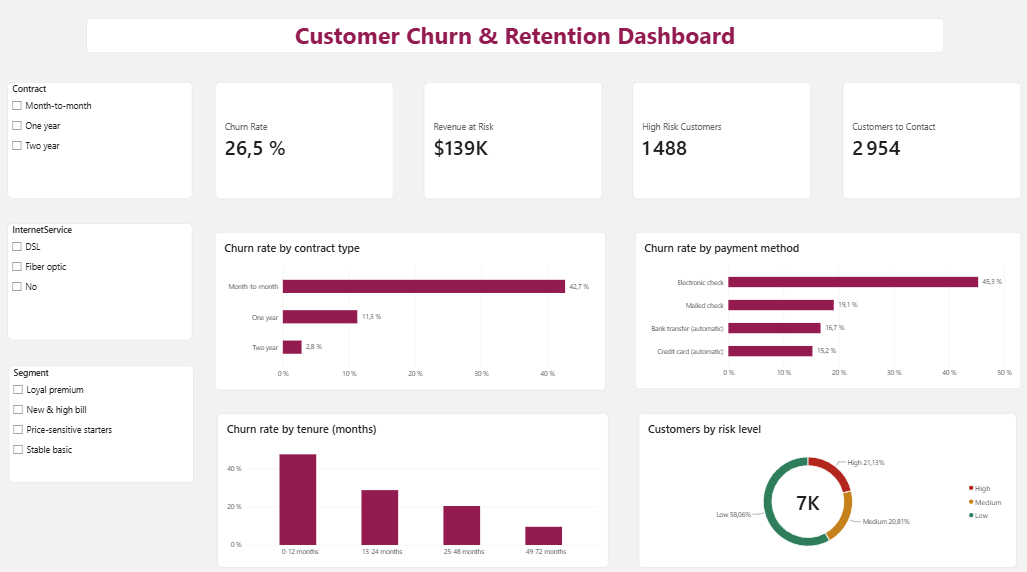

What the dashboard file says about the page in this screenshot:
{"tool":"powerbi","page":{"name":"Executive overview","canvas":[1920,1080],"ordinal":0},"visuals":[{"type":"textbox","box":[168.7,40,1578.5,64.4],"z":0},{"type":"cardVisual","fields":{"Data":["_Measures.Churn Rate"]},"box":[404.1,155.4,329.3,216.1],"z":1000},{"type":"cardVisual","fields":{"Data":["_Measures.Revenue at Risk"]},"box":[788.9,155.4,329.3,216.1],"z":2000},{"type":"cardVisual","fields":{"Data":["_Measures.Customers to Contact (display)"]},"box":[1558.6,155.4,329.3,216.1],"z":3000},{"type":"cardVisual","fields":{"Data":["_Measures.High Risk Customers (display)"]},"box":[1173.7,155.4,329.3,216.1],"z":4000},{"type":"clusteredBarChart","title":"Churn rate by contract type","fields":{"Category":["Customers.Contract"],"Y":["_Measures.Churn Rate"]},"box":[404.1,432.9,719.3,290.8],"z":5000},{"type":"clusteredColumnChart","title":"Churn rate by tenure (months)","fields":{"Category":["Dim Tenure.TenureGroup"],"Y":["_Measures.Churn Rate"]},"box":[409.4,765.1,719.3,284.2],"z":6000},{"type":"clusteredBarChart","title":"Churn rate by payment method","fields":{"Category":["Customers.PaymentMethod"],"Y":["_Measures.Churn Rate"]},"box":[1176.7,433.4,710.5,288.6],"z":7000},{"type":"donutChart","title":"Customers by risk level","fields":{"Category":["Dim Risk.RiskLevel"],"Y":["_Measures.Total Customers"]},"box":[1183.4,766,694.9,284.2],"z":8000},{"type":"slicer","fields":{"Values":["Customers.Contract"]},"box":[23.3,155.4,339.7,215.4],"z":9000},{"type":"slicer","fields":{"Values":["Customers.InternetService"]},"box":[22.2,417.4,339.7,215.4],"z":10000},{"type":"slicer","fields":{"Values":["Dim Segment.Segment"]},"box":[24.4,679.4,339.7,215.4],"z":11000}]}

Visuals, with their boxes in screenshot pixels (x1, y1, x2, y2), scaled from the page's 1920x1080 canvas onto the 1027x572 screenshot:
textbox: left=90, top=21, right=935, bottom=55
cardVisual - _Measures.Churn Rate: left=216, top=82, right=392, bottom=197
cardVisual - _Measures.Revenue at Risk: left=422, top=82, right=598, bottom=197
cardVisual - _Measures.Customers to Contact (display): left=834, top=82, right=1010, bottom=197
cardVisual - _Measures.High Risk Customers (display): left=628, top=82, right=804, bottom=197
"Churn rate by contract type" clusteredBarChart: left=216, top=229, right=601, bottom=383
"Churn rate by tenure (months)" clusteredColumnChart: left=219, top=405, right=604, bottom=556
"Churn rate by payment method" clusteredBarChart: left=629, top=230, right=1009, bottom=382
"Customers by risk level" donutChart: left=633, top=406, right=1005, bottom=556
slicer - Customers.Contract: left=12, top=82, right=194, bottom=196
slicer - Customers.InternetService: left=12, top=221, right=194, bottom=335
slicer - Dim Segment.Segment: left=13, top=360, right=195, bottom=474
